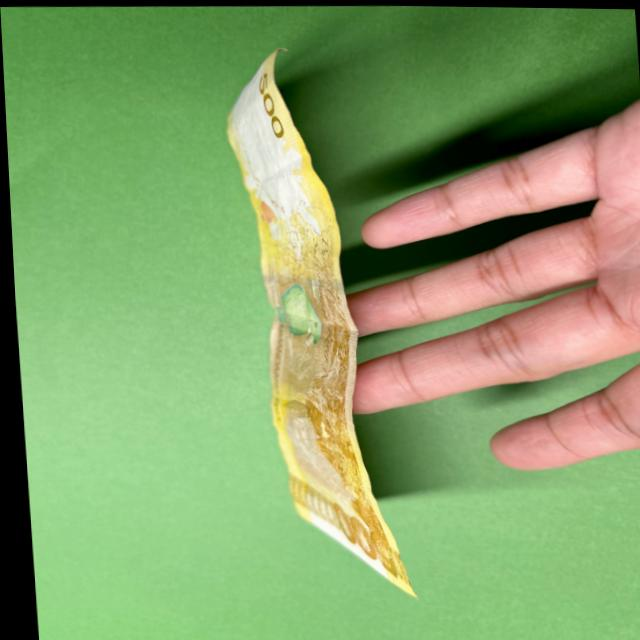value: (326, 497, 396, 576)
